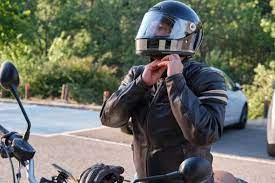helmets: (122, 0, 209, 60)
